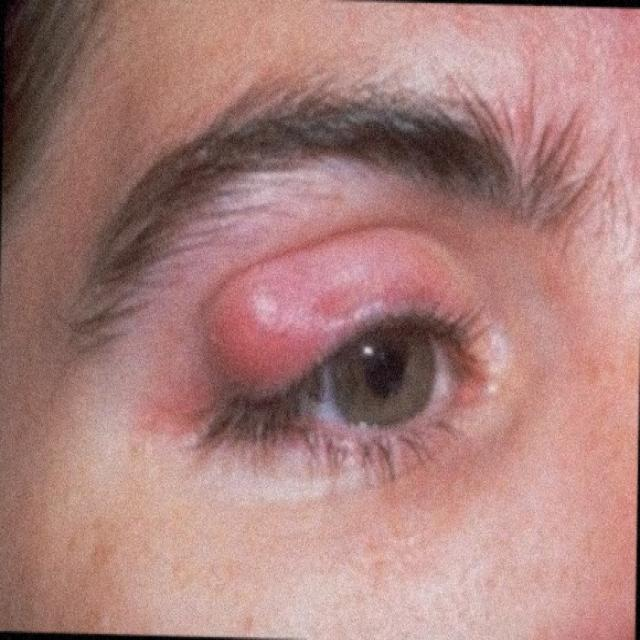Chalazion: (142, 182, 538, 494)
